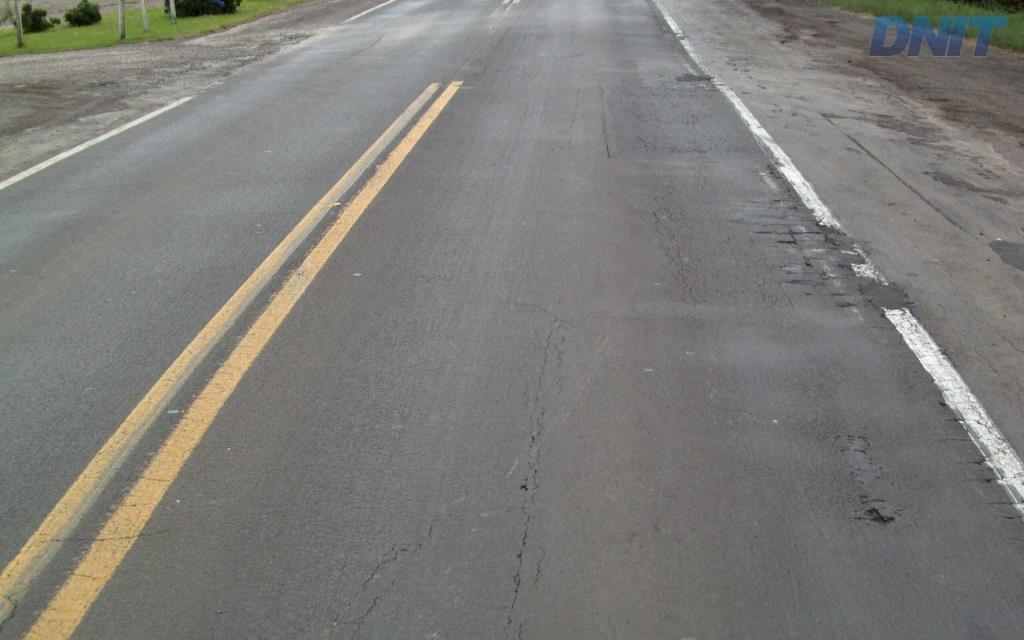crack: (853, 506, 895, 526)
pothole: (854, 498, 904, 536)
